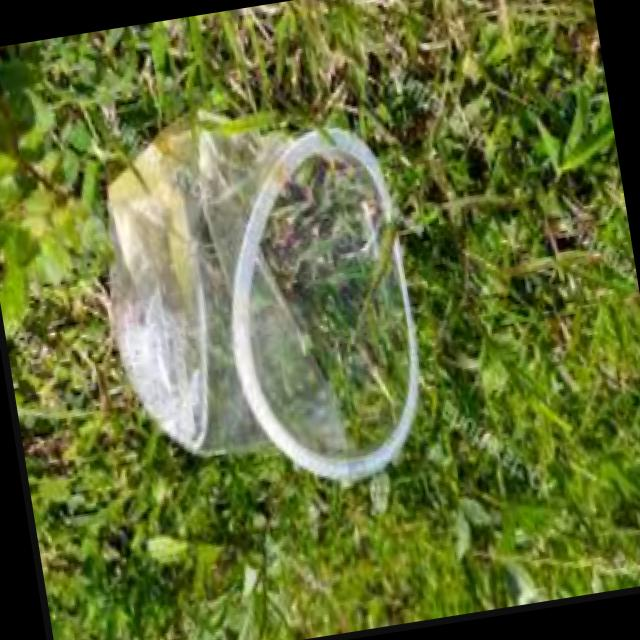GelasPlastik: (80, 85, 440, 519)
